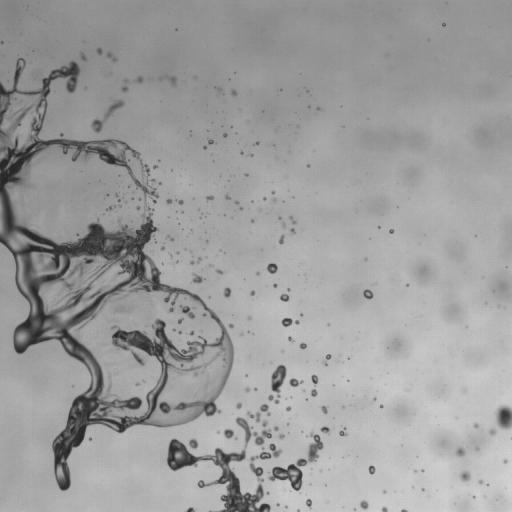droplet: (166, 404, 282, 511), (106, 192, 127, 213), (494, 405, 511, 430), (224, 429, 236, 439), (192, 273, 203, 283), (455, 446, 465, 457), (459, 471, 470, 481), (289, 378, 302, 386), (267, 263, 277, 273), (363, 289, 373, 299), (223, 287, 231, 297), (311, 374, 318, 385), (168, 76, 176, 85), (280, 293, 289, 301), (320, 426, 329, 434), (339, 427, 347, 436), (360, 500, 368, 509), (135, 76, 143, 83), (289, 216, 296, 224), (369, 465, 375, 474), (299, 342, 306, 349), (489, 428, 496, 435), (311, 389, 317, 397), (279, 235, 284, 244), (104, 363, 113, 368), (80, 53, 86, 60), (231, 89, 237, 96), (206, 195, 213, 201), (177, 317, 183, 324), (321, 406, 327, 413), (306, 499, 311, 507), (96, 48, 102, 54), (208, 138, 214, 144), (278, 433, 284, 439), (176, 199, 183, 204), (381, 506, 388, 511), (166, 199, 172, 204), (290, 228, 295, 234), (216, 269, 222, 274), (250, 290, 255, 296), (188, 330, 194, 335), (288, 336, 293, 342), (236, 402, 241, 408), (271, 197, 276, 202), (135, 205, 140, 210), (228, 323, 233, 328), (245, 387, 250, 392), (286, 406, 291, 411), (473, 423, 478, 428), (216, 87, 221, 91), (254, 141, 259, 145), (281, 222, 285, 227), (274, 426, 278, 431), (478, 480, 483, 484), (223, 133, 227, 137), (225, 195, 229, 199), (389, 229, 393, 233), (160, 246, 164, 250), (273, 283, 277, 287), (178, 330, 182, 334), (503, 459, 507, 463), (208, 264, 213, 267), (316, 107, 320, 110), (249, 153, 253, 156), (153, 165, 157, 168), (271, 191, 275, 194), (203, 146, 206, 149), (158, 182, 161, 185), (263, 197, 266, 200), (131, 198, 134, 201), (235, 201, 238, 204), (239, 206, 242, 209), (248, 316, 251, 319), (173, 328, 176, 331), (373, 397, 376, 400), (476, 447, 479, 450), (413, 469, 416, 472), (442, 23, 445, 25), (240, 151, 243, 153), (307, 164, 309, 167), (252, 219, 254, 222), (256, 272, 259, 274), (380, 405, 383, 407), (422, 488, 424, 491), (383, 490, 385, 493), (245, 173, 247, 175), (106, 193, 108, 195), (287, 289, 289, 291), (200, 329, 202, 331), (117, 363, 119, 365), (254, 388, 256, 390), (342, 406, 344, 408), (89, 438, 91, 440), (277, 503, 279, 505)
ligament: (0, 58, 234, 490), (268, 430, 323, 491), (91, 100, 124, 132), (268, 365, 286, 404), (281, 317, 299, 326), (112, 304, 129, 313), (121, 79, 128, 92), (106, 52, 116, 61), (190, 257, 201, 265), (323, 354, 331, 365), (135, 380, 145, 385), (185, 507, 195, 511), (167, 235, 173, 241), (401, 509, 407, 511), (209, 510, 212, 511), (297, 510, 300, 511)
